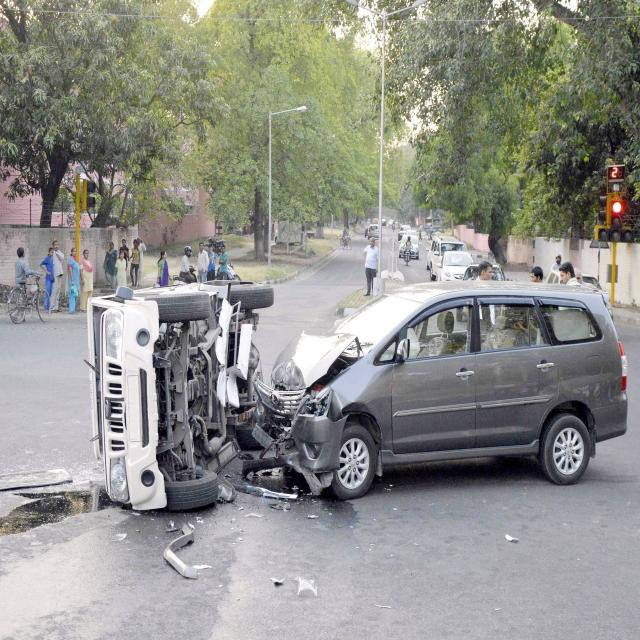accident: (242, 282, 629, 500), (85, 280, 274, 510)
bicycle: (8, 247, 50, 323)
car: (428, 235, 468, 280), (436, 252, 472, 282)
motorcycle: (404, 237, 412, 265)
